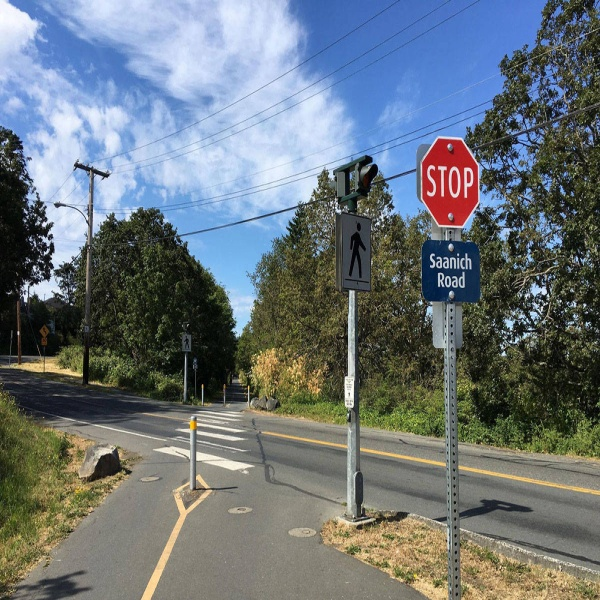stop: (424, 129, 481, 230)
